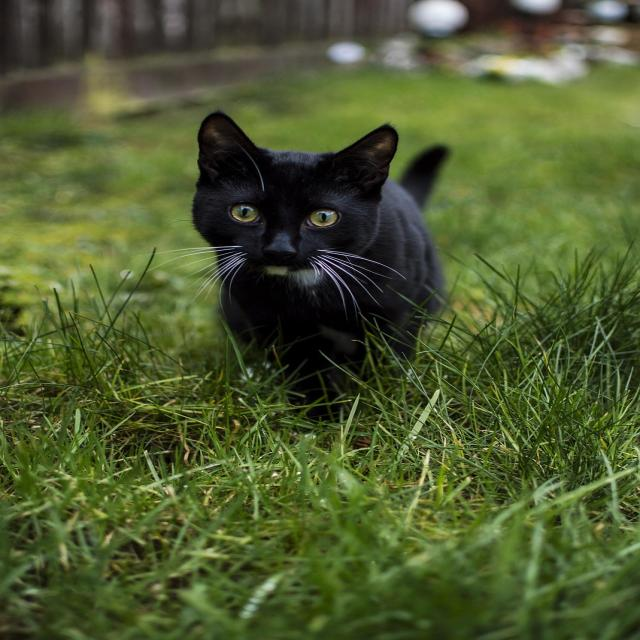cat: (193, 107, 458, 404)
